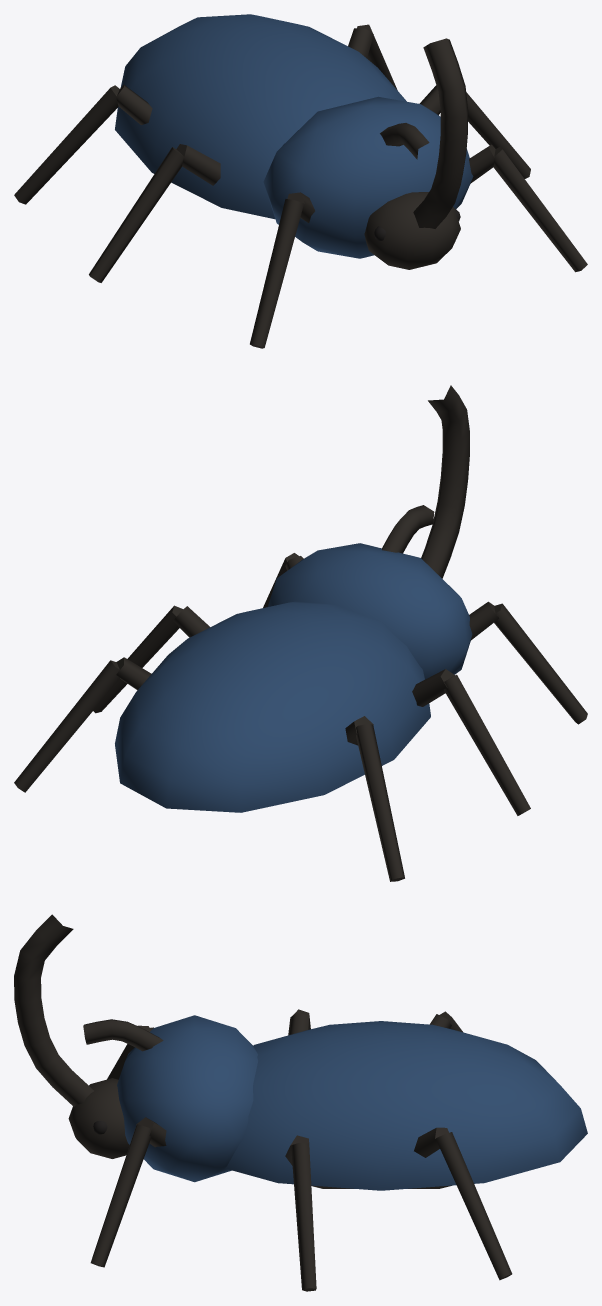
File: beetle.glb
3 renders of one model, top to bottom at view 1: azimuth 30°, elevation 25°; view 2: azimuth 150°, elevation 25°; view 3: azimuth 270°, elevation 25°, orthographic. The views are drawn at different scales.
Parts seen in each view (by area): view 1: beetle; view 2: beetle; view 3: beetle.
Part boxes in pixels (x1,y1,x2,y2): beetle: [14, 14, 587, 348]; beetle: [14, 385, 587, 881]; beetle: [14, 914, 587, 1291].
Size of the model in its own units: 4.5 by 2.82 by 5.23.
